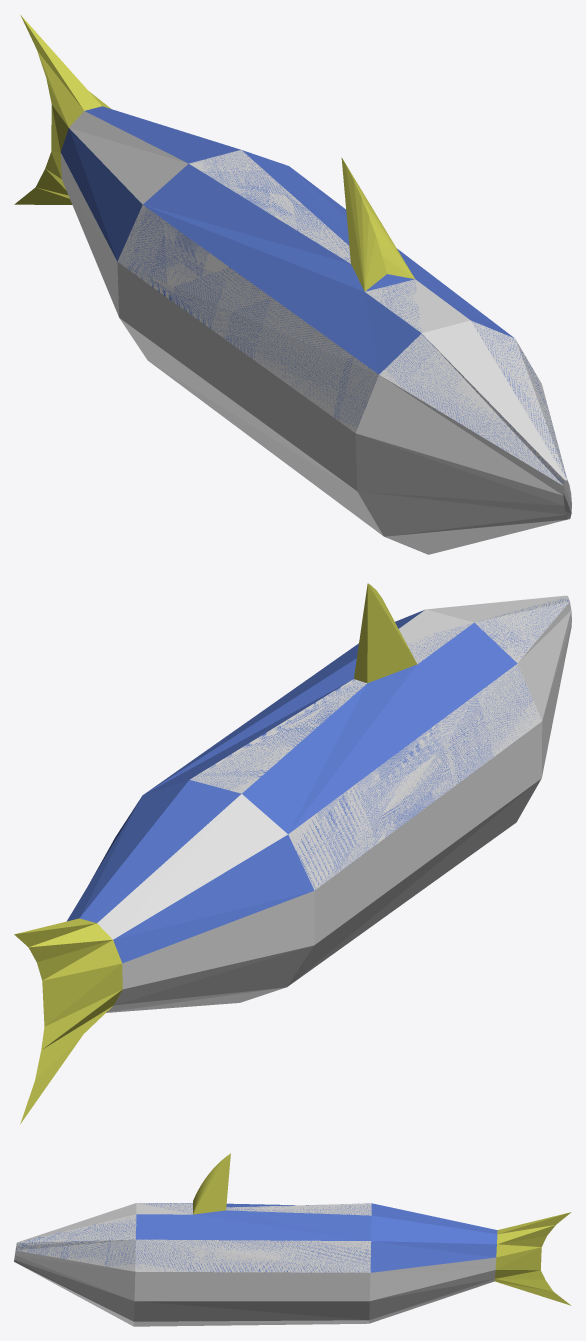
Rendered from iwashi_new.dae.
3 renders of one model, top to bottom at view 1: azimuth 30°, elevation 25°; view 2: azimuth 150°, elevation 25°; view 3: azimuth 270°, elevation 25°, orthographic. The views are drawn at different scales.
Parts seen in each view (by area): view 1: iwashi_new; view 2: iwashi_new; view 3: iwashi_new.
Boxes of the visible parts, x1,y1,x2,y2 form: iwashi_new: [14, 15, 571, 554]; iwashi_new: [14, 583, 571, 1124]; iwashi_new: [14, 1153, 571, 1326].
Bounding box in the file's own units: 0.2679 × 1.28 × 0.4145.
